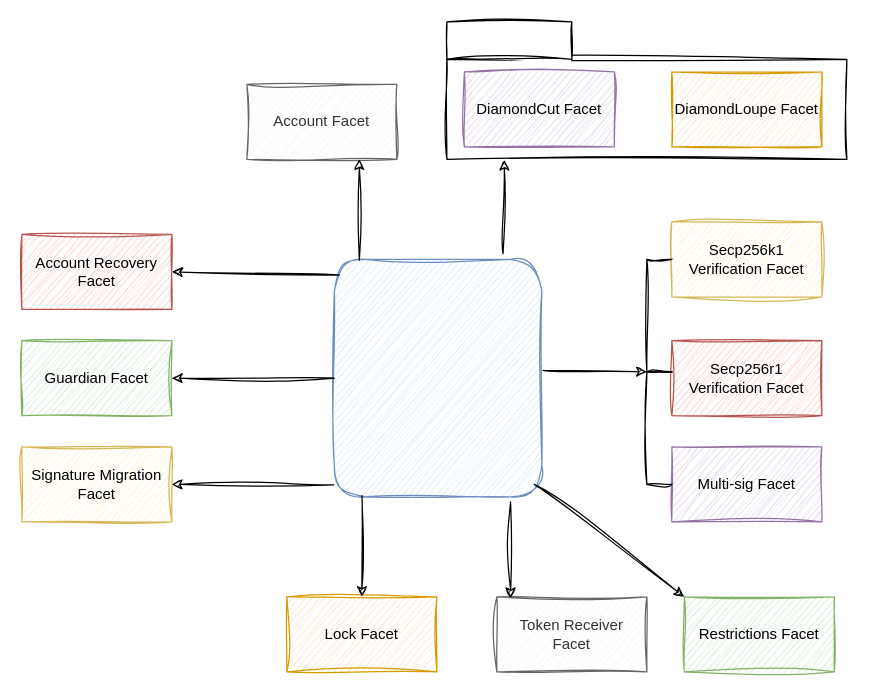
The diagram is 869 pixels wide and 694 high, and some of its shapes have lost their labels. Here are the shapes that lost their labels. From the top down, the box of each, then its label:
(446, 21, 572, 59): EIP2535 Diamond Default Facet
(333, 258, 542, 497): Barz
